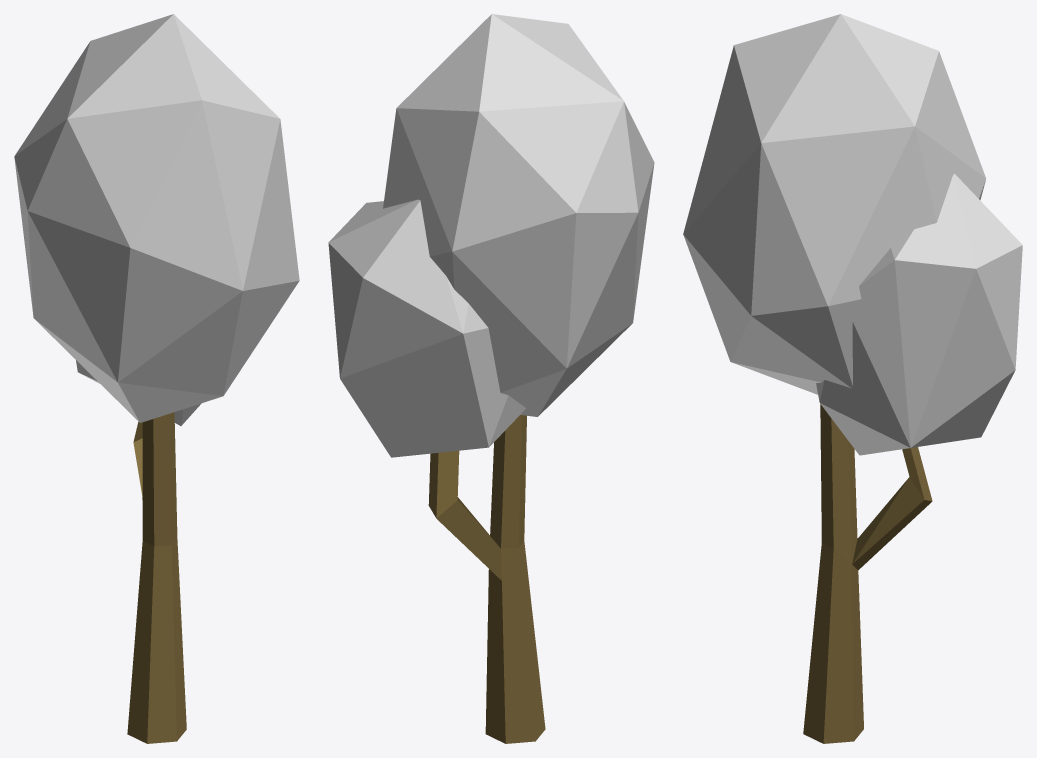
Rendered from WinterTree3.gltf.
3 renders of one model, left to right at view 1: azimuth 30°, elevation 25°; view 2: azimuth 150°, elevation 25°; view 3: azimuth 270°, elevation 25°, orthographic. The views are drawn at different scales.
Visible parts, largest first — view 1: Icosphere.001, Cylinder.001; view 2: Icosphere.001, Cylinder.001; view 3: Icosphere.001, Cylinder.001.
Part boxes in pixels (<box>): Icosphere.001: <box>14,14,299,425</box>; Cylinder.001: <box>127,412,186,743</box>; Icosphere.001: <box>328,14,654,457</box>; Cylinder.001: <box>428,415,545,743</box>; Icosphere.001: <box>683,14,1022,455</box>; Cylinder.001: <box>803,404,932,743</box>.
Bounding box in the file's own units: 5.66 × 15.24 × 6.45.
